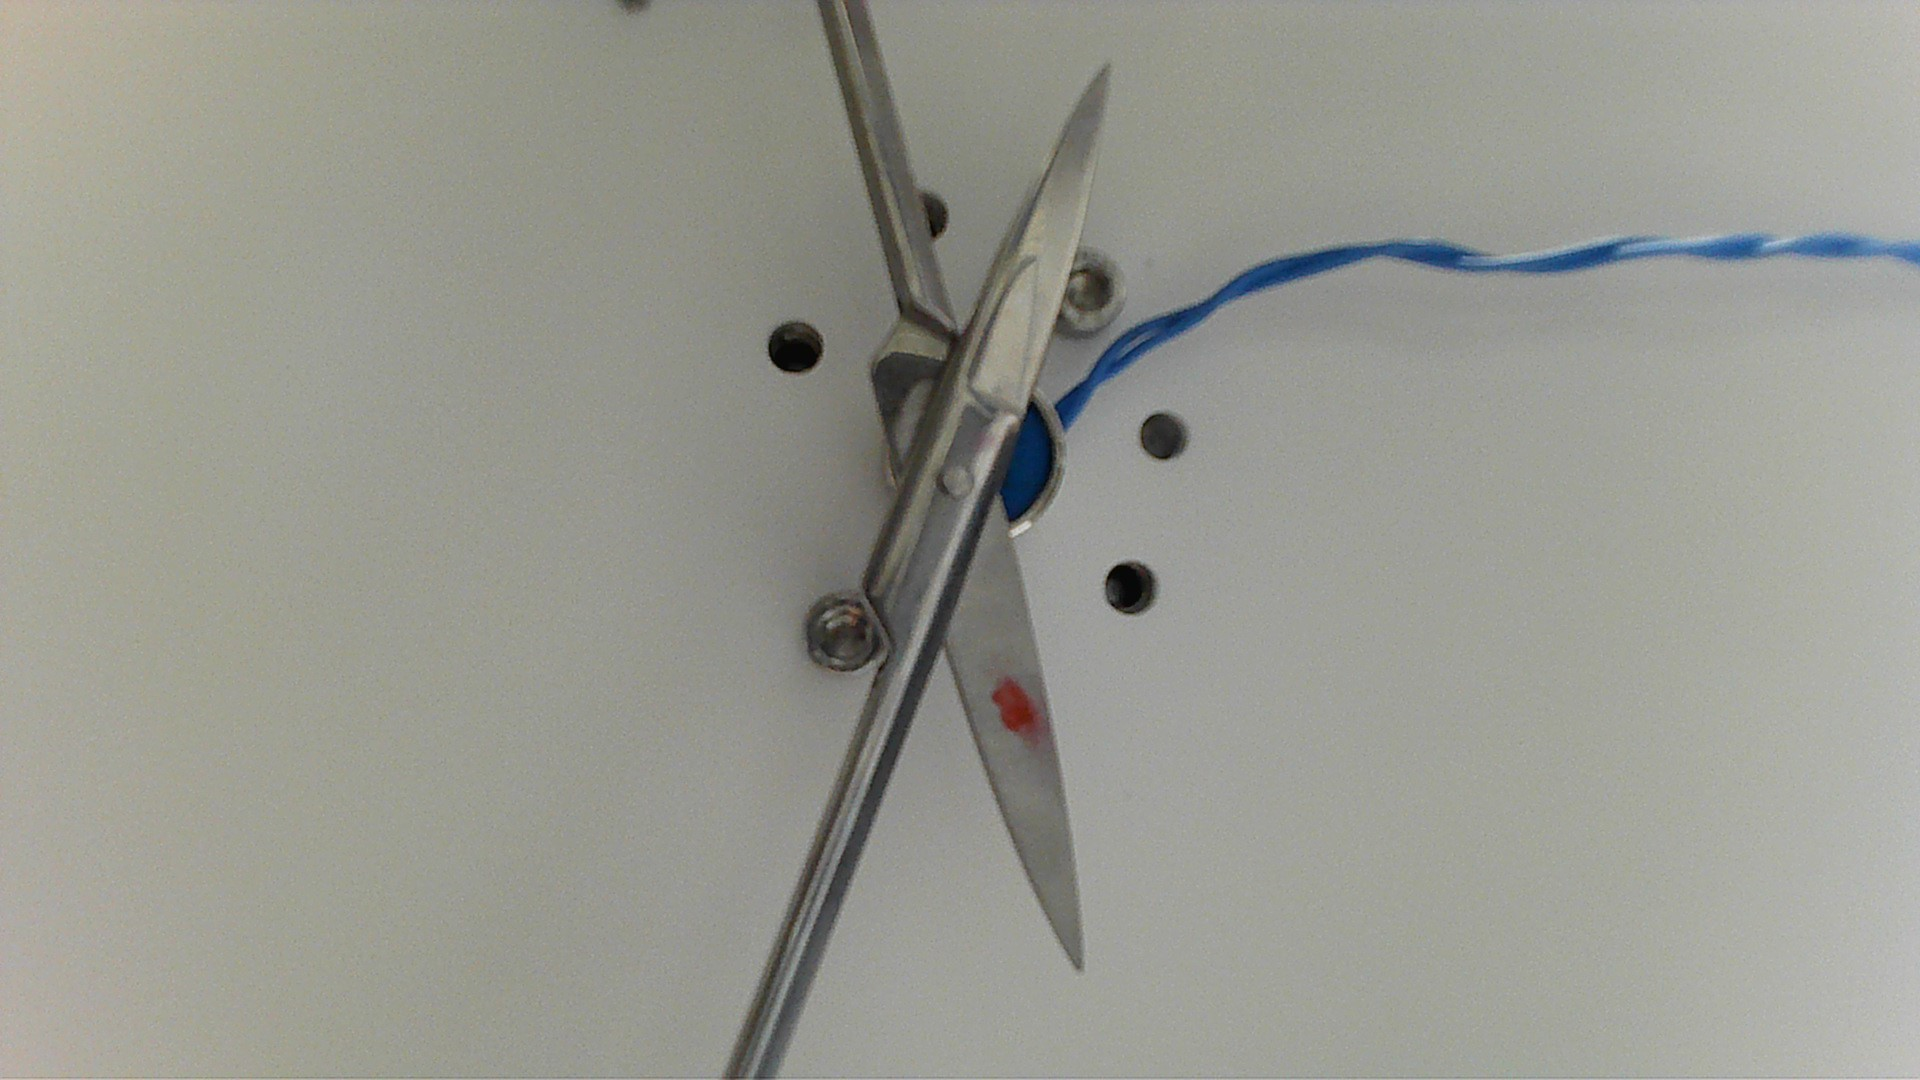Stain: (984, 667, 1047, 760)
